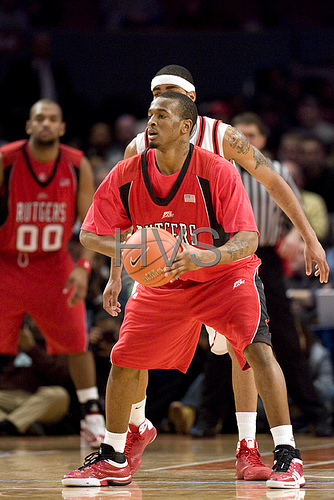basketball: (121, 228, 179, 287)
